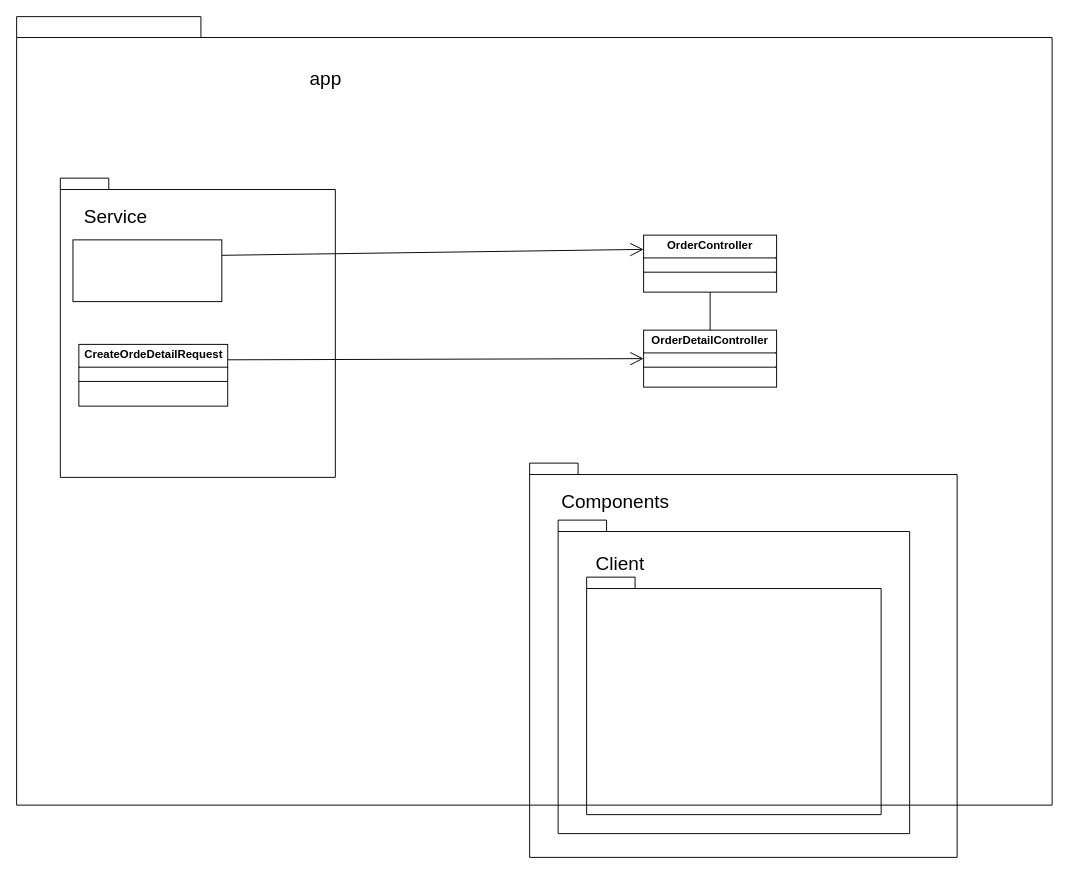
This 1069x874 diagram has some shape labels left out. Here are the shapes that lost their labels. From the top down, the box of each, then its label:
(72, 239, 222, 302): CreateOrdeRequest
(586, 576, 881, 815): my-order
